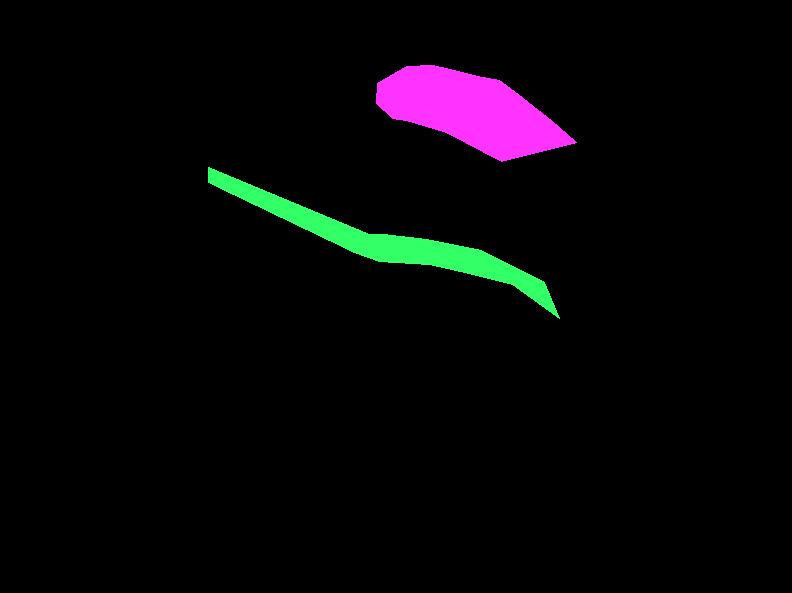Broken part: (208, 167, 559, 318)
Dent: (376, 65, 576, 161)
